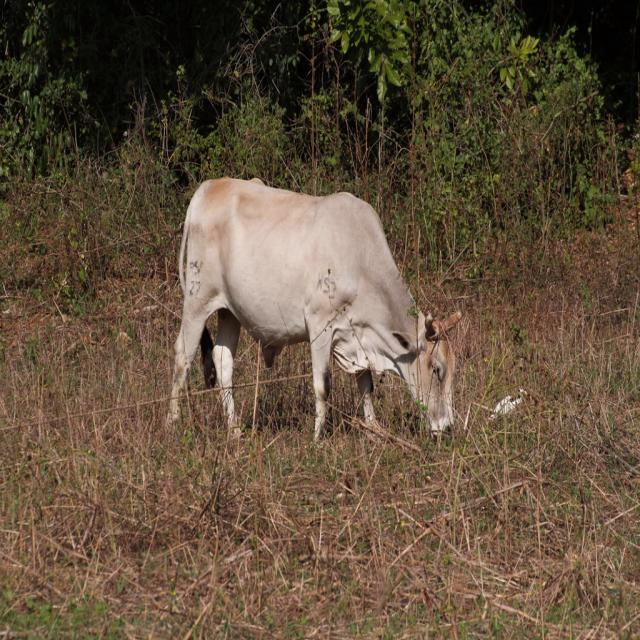cow: (168, 180, 460, 439)
